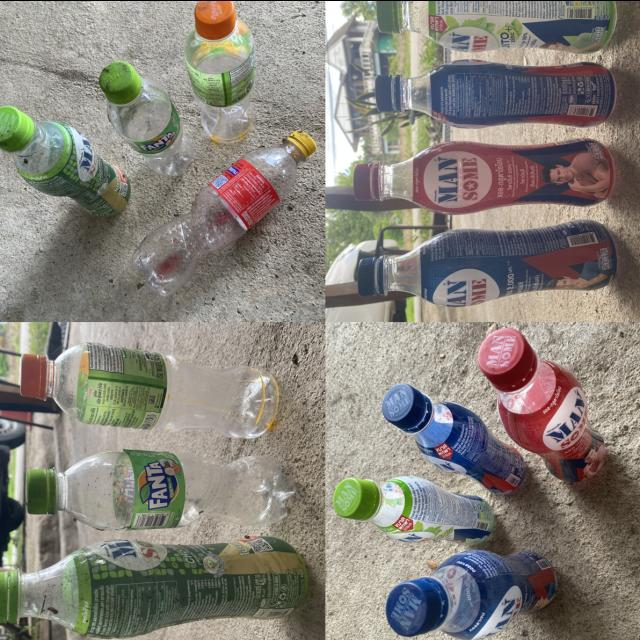plastik: (0, 536, 308, 638), (132, 130, 316, 296), (21, 341, 278, 437), (358, 219, 617, 306), (26, 449, 295, 529), (354, 137, 614, 214), (478, 328, 605, 481), (375, 59, 615, 126), (382, 383, 525, 493), (386, 549, 556, 638), (0, 105, 131, 216), (376, 0, 616, 53), (333, 475, 494, 544), (99, 61, 193, 175), (184, 0, 255, 141)
